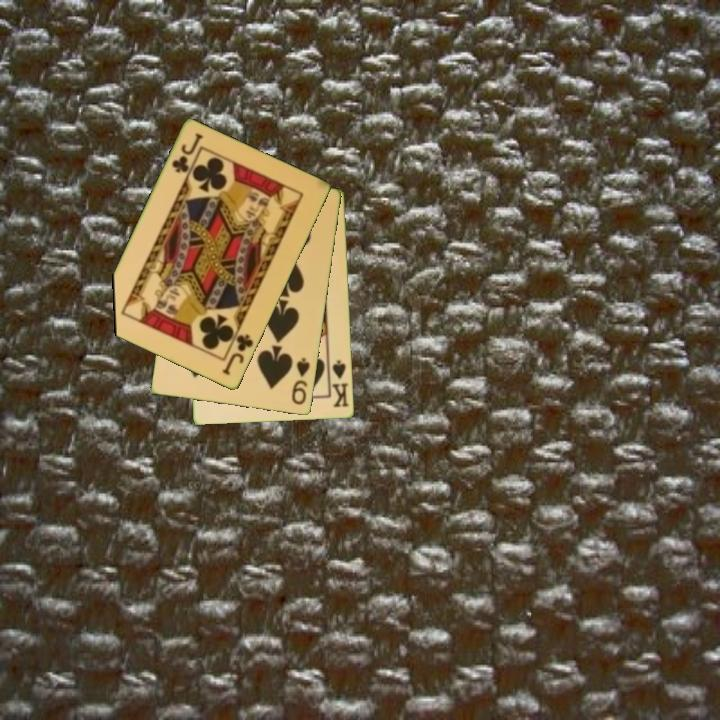9s: (288, 354, 313, 408)
Jc: (219, 331, 257, 378), (168, 130, 206, 176)
Ks: (325, 357, 352, 411)
